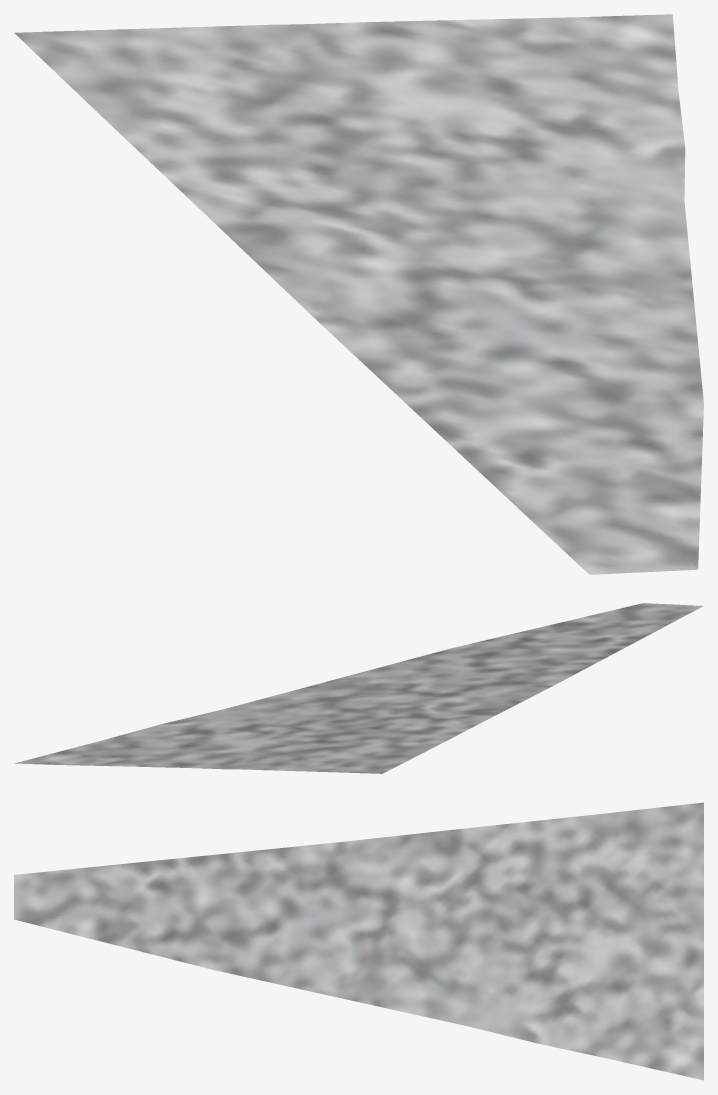
3 renders of one model, top to bottom at view 1: azimuth 30°, elevation 25°; view 2: azimuth 150°, elevation 25°; view 3: azimuth 270°, elevation 25°, orthographic. The views are drawn at different scales.
Bounding box in the file's own units: 0.5534 × 0.1142 × 0.8373.
Materials: 1 (1 with a texture image).
